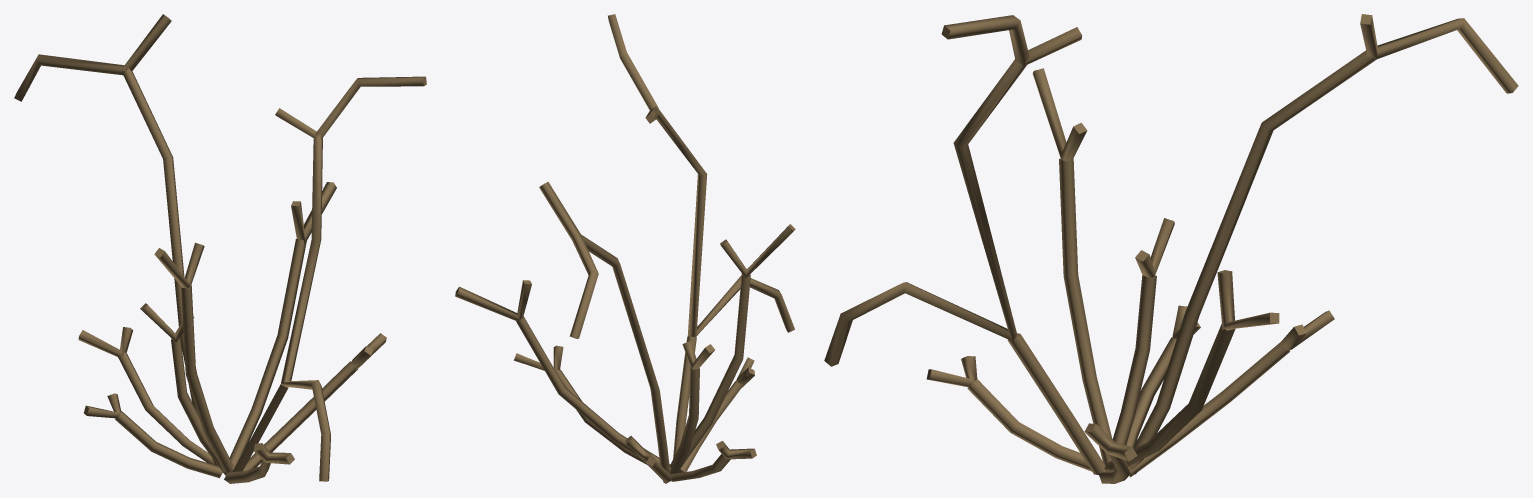
File: fbx_bush_1.fbx
3 renders of one model, left to right at view 1: azimuth 30°, elevation 25°; view 2: azimuth 150°, elevation 25°; view 3: azimuth 270°, elevation 25°, orthographic. The views are drawn at different scales.
Visible parts, largest first — view 1: Plane.002; view 2: Plane.002; view 3: Plane.002.
Boxes of the visible parts, <box> form: Plane.002: <box>14,14,426,483</box>; Plane.002: <box>455,14,795,483</box>; Plane.002: <box>824,14,1518,483</box>.
Size of the model in its own units: 56.64 by 79 by 93.69.
